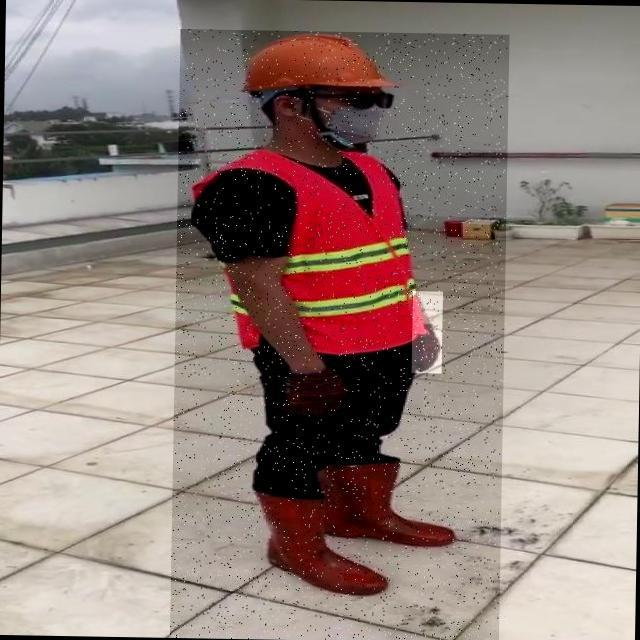Gloves: (277, 369, 349, 417), (413, 291, 444, 374)
Helmet: (236, 31, 401, 96)
Human: (169, 28, 510, 640)
Safety Boot: (251, 489, 392, 595), (315, 461, 462, 546)
Safety Vest: (194, 149, 429, 355)
